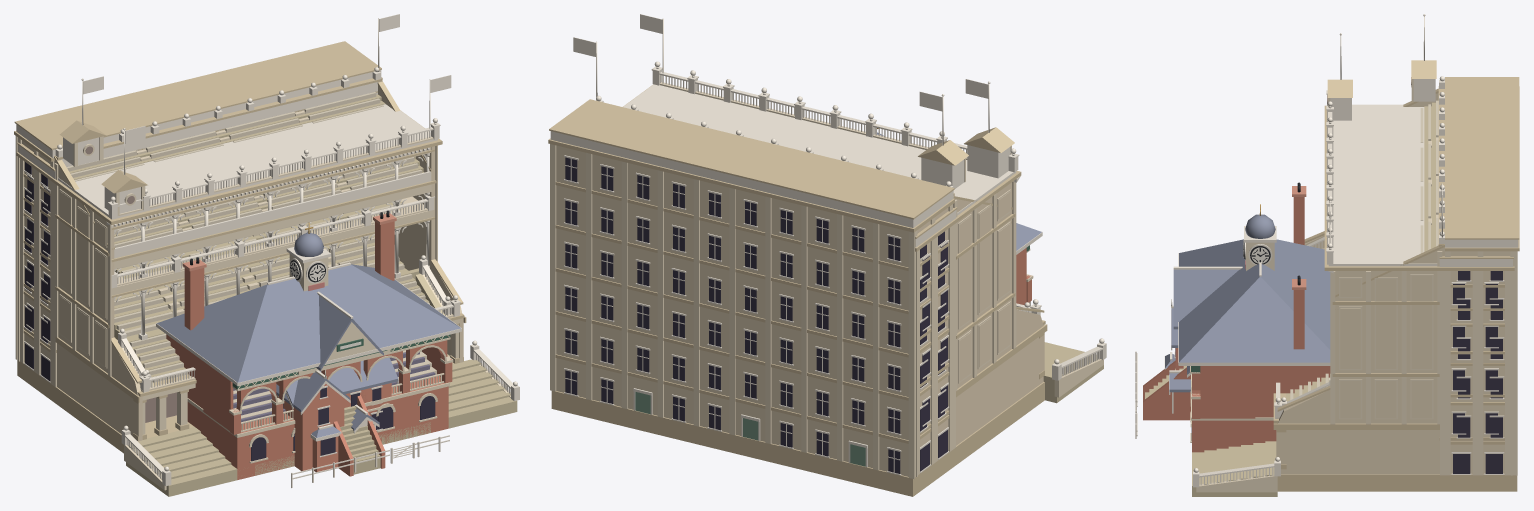
File: gen-tight-r_stands.glb
The picture shows the model from 3 angles, left to right: view 1: azimuth 30°, elevation 25°; view 2: azimuth 150°, elevation 25°; view 3: azimuth 270°, elevation 25°; orthographic projection. The views are drawn at different scales.
Parts seen in each view (by area): view 1: park_balcony_stand, park_roof_terrace_stand, park_old_pavilion, victorian_house, park_terrace; view 2: park_roof_terrace_stand, park_balcony_stand, park_old_pavilion; view 3: park_balcony_stand, park_roof_terrace_stand, park_old_pavilion, victorian_house.
Part boxes in pixels (bbox=[...]): park_balcony_stand: bbox=[16, 75, 519, 496]; park_roof_terrace_stand: bbox=[14, 14, 459, 434]; park_old_pavilion: bbox=[156, 210, 461, 479]; victorian_house: bbox=[276, 357, 449, 487]; park_terrace: bbox=[255, 422, 430, 475]; park_roof_terrace_stand: bbox=[548, 37, 1044, 496]; park_balcony_stand: bbox=[623, 14, 1106, 476]; park_old_pavilion: bbox=[877, 128, 1042, 305]; park_balcony_stand: bbox=[1192, 33, 1514, 496]; park_roof_terrace_stand: bbox=[1291, 14, 1519, 491]; park_old_pavilion: bbox=[1143, 182, 1330, 452]; victorian_house: bbox=[1135, 299, 1191, 438].
Size of the model in its own units: 40.72 by 35.42 by 37.73.
